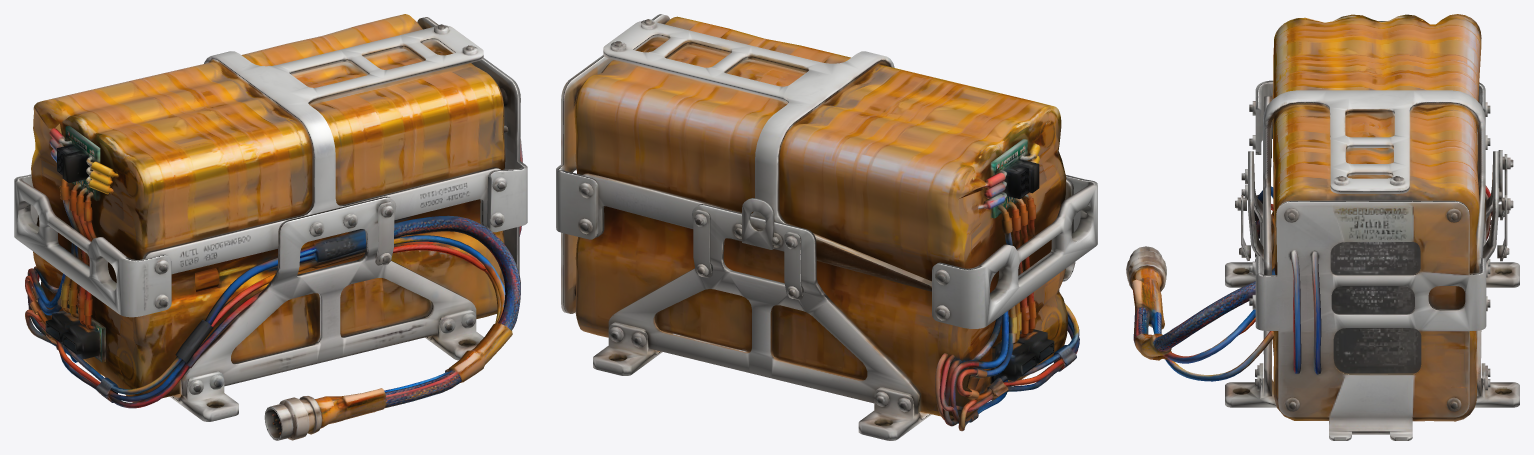
The model's file is sat1_4.fbx.
The picture shows the model from 3 angles, left to right: view 1: azimuth 30°, elevation 25°; view 2: azimuth 150°, elevation 25°; view 3: azimuth 270°, elevation 25°; orthographic projection. The views are drawn at different scales.
Parts seen in each view (by area): view 1: tripo_node_90100fe1; view 2: tripo_node_90100fe1; view 3: tripo_node_90100fe1.
Part boxes in pixels (<box>): tripo_node_90100fe1: <box>14,14,527,440</box>; tripo_node_90100fe1: <box>556,14,1097,440</box>; tripo_node_90100fe1: <box>1126,14,1519,440</box>.
Size of the model in its own units: 0.9995 by 0.5796 by 0.8257.
